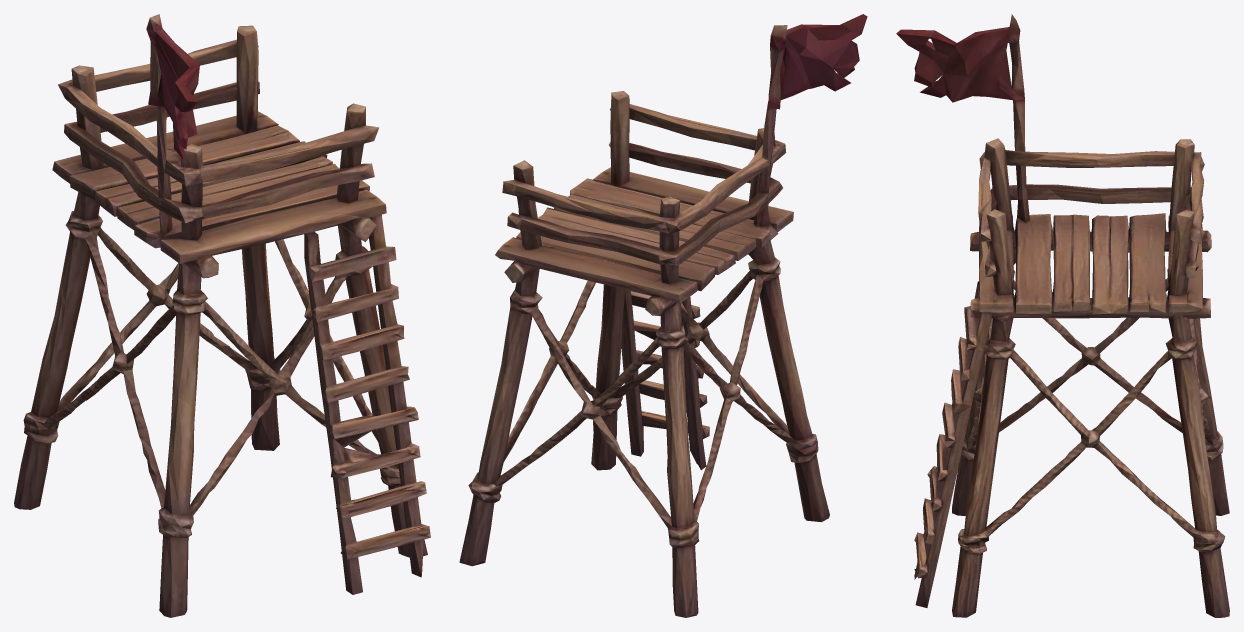
File: oc_lookout.glb
3 views of the same model, side by side, from view 1: azimuth 30°, elevation 25°; view 2: azimuth 150°, elevation 25°; view 3: azimuth 270°, elevation 25° (orthographic). The views are drawn at different scales.
Visible parts, largest first — view 1: W_bandit_lookout; view 2: W_bandit_lookout; view 3: W_bandit_lookout.
Part boxes in pixels (<box>): W_bandit_lookout: <box>14,14,430,617</box>; W_bandit_lookout: <box>459,14,867,617</box>; W_bandit_lookout: <box>896,14,1229,617</box>.
Bounding box in the file's own units: 2.49 × 5 × 3.03.
Materials: 1 (1 with a texture image).
